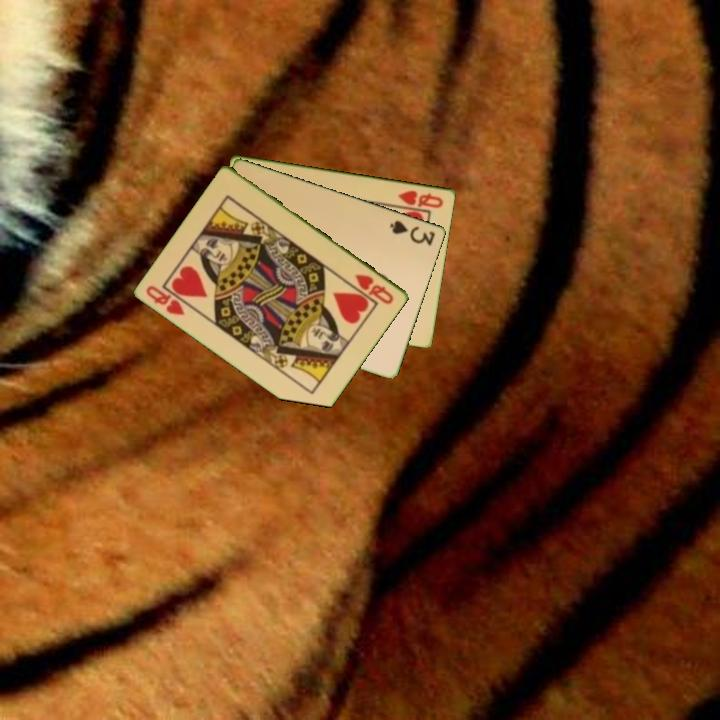3s: (387, 216, 438, 248)
Qh: (352, 270, 397, 307), (143, 282, 188, 318), (395, 186, 446, 211)
